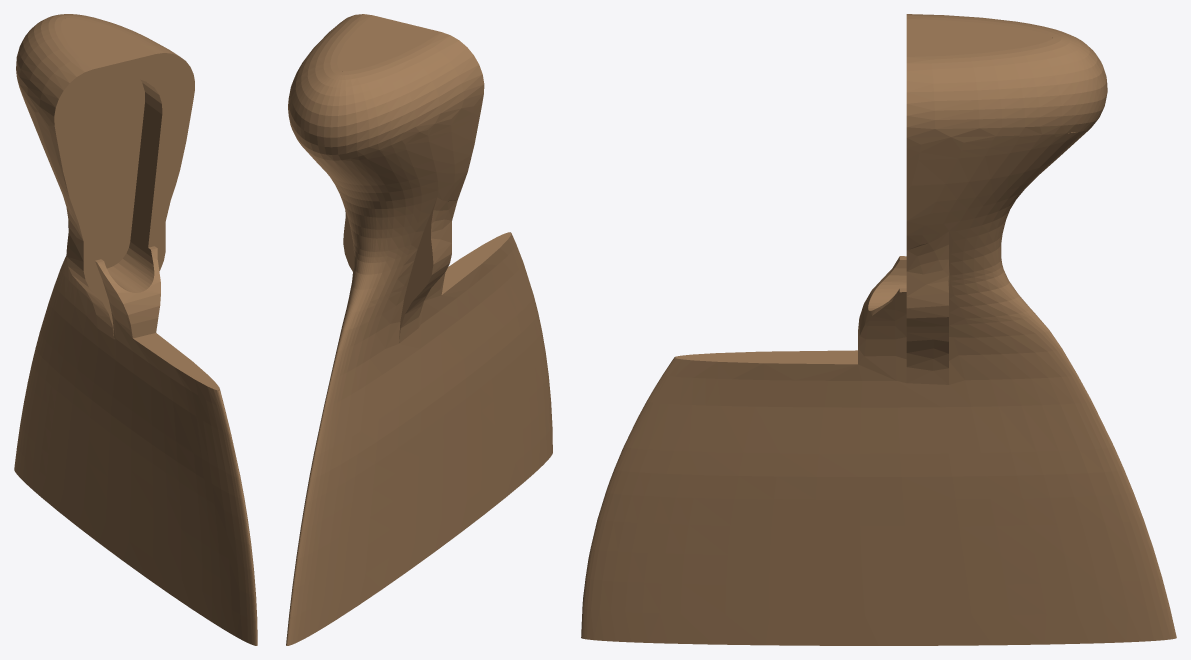
File: fishtail.dae
3 renders of one model, left to right at view 1: azimuth 30°, elevation 25°; view 2: azimuth 150°, elevation 25°; view 3: azimuth 270°, elevation 25°, orthographic. The views are drawn at different scales.
Visible parts, largest first — view 1: Full_Body_Solid_v1__1_; view 2: Full_Body_Solid_v1__1_; view 3: Full_Body_Solid_v1__1_.
Boxes of the visible parts, bbox=[...] form: Full_Body_Solid_v1__1_: bbox=[14, 14, 257, 645]; Full_Body_Solid_v1__1_: bbox=[286, 14, 552, 645]; Full_Body_Solid_v1__1_: bbox=[581, 14, 1176, 645].
Size of the model in its own units: 0.6152 by 1.83 by 2.03.
